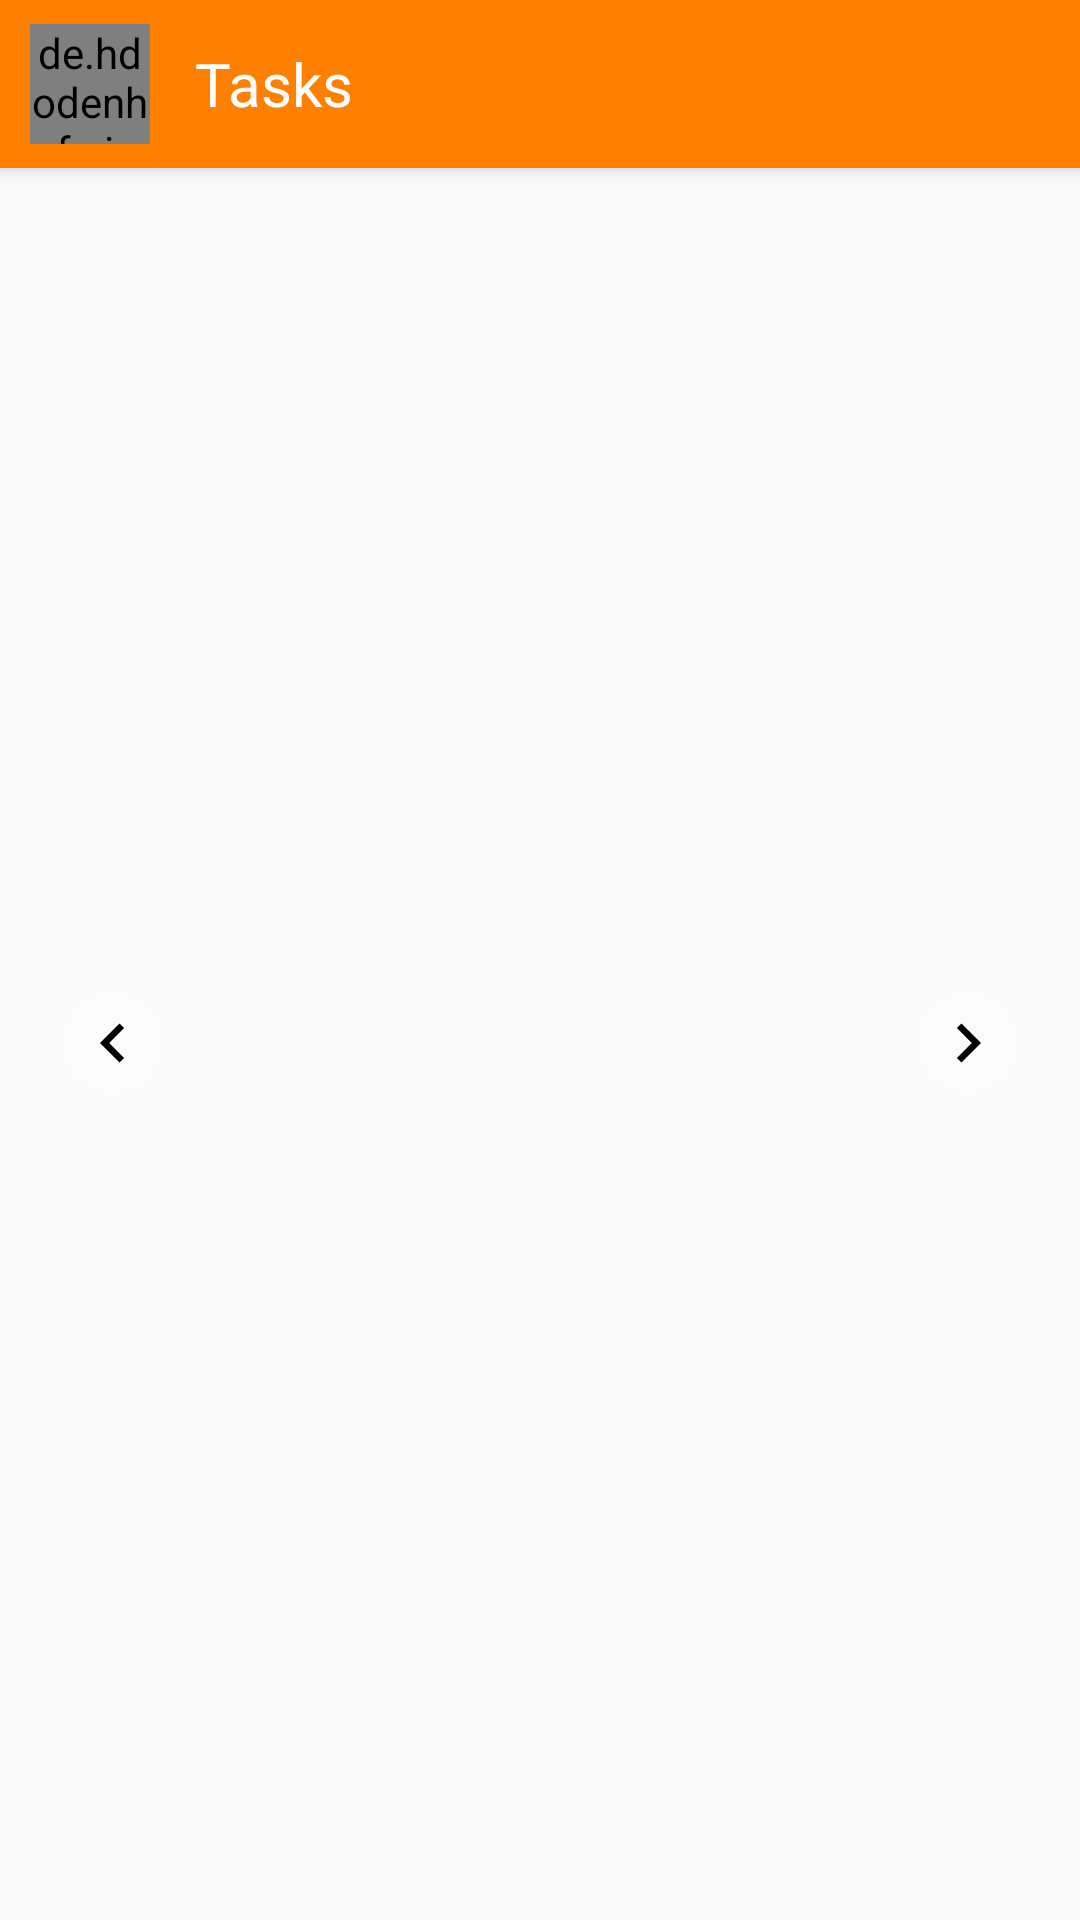

Icon click points for this 1080 x 1920 phone screenshot, format point (x, y):
chevron left: point (112, 1043)
chevron right: point (969, 1043)
